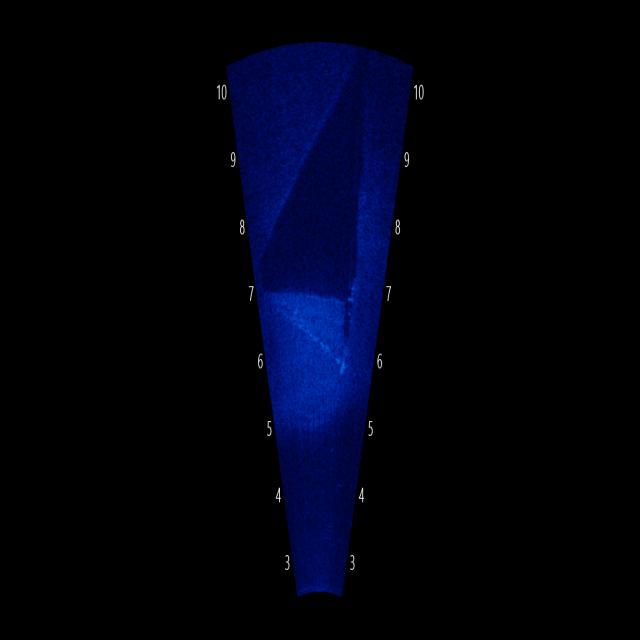triangle: (268, 252, 360, 379)
